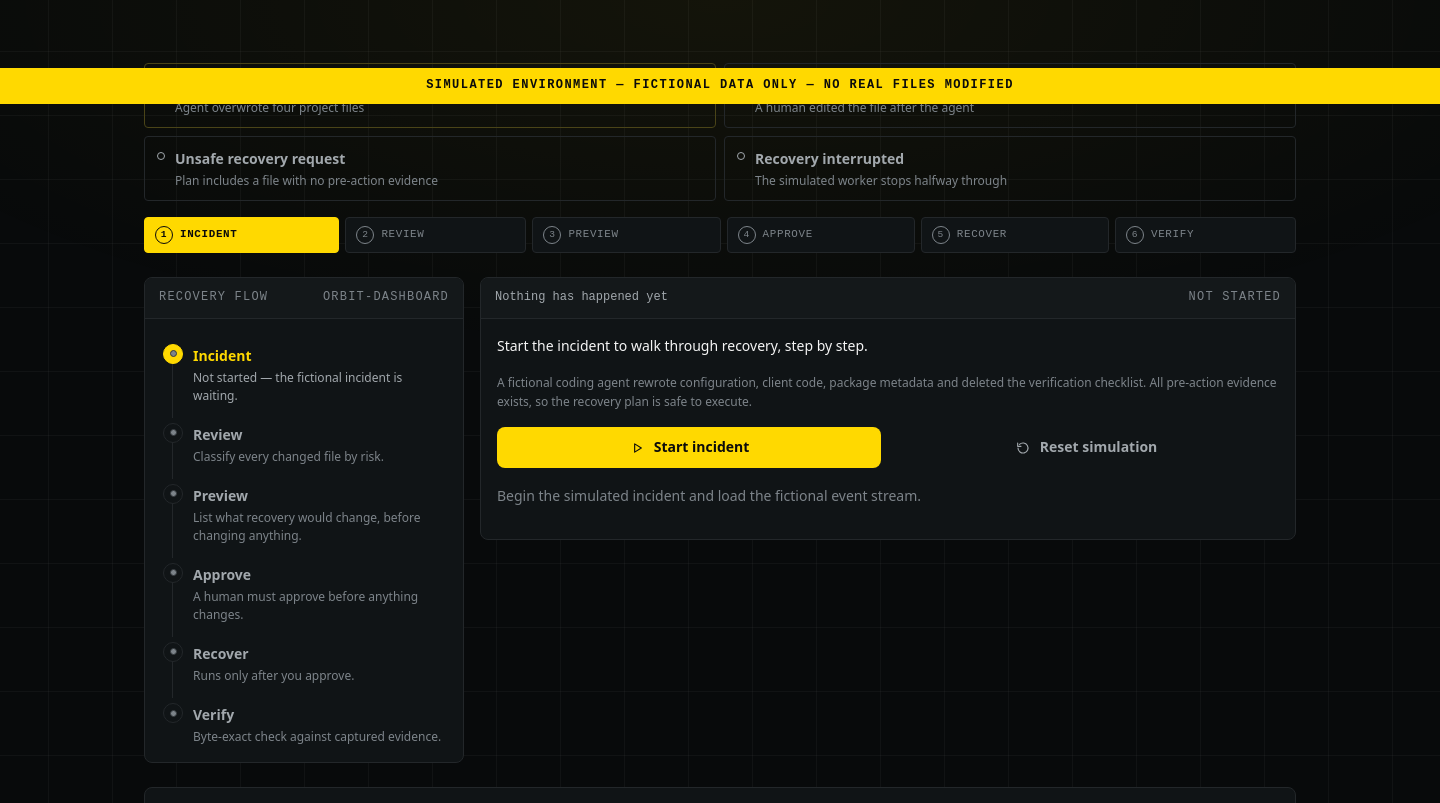
Demo page — state transitions through the UI › resets to an idle walkthrough with no stale results
The image size is (1440, 803).
(page scrolled)
Click the button "Start incident".
click(689, 448)  # box left=497, top=427, right=881, bottom=468
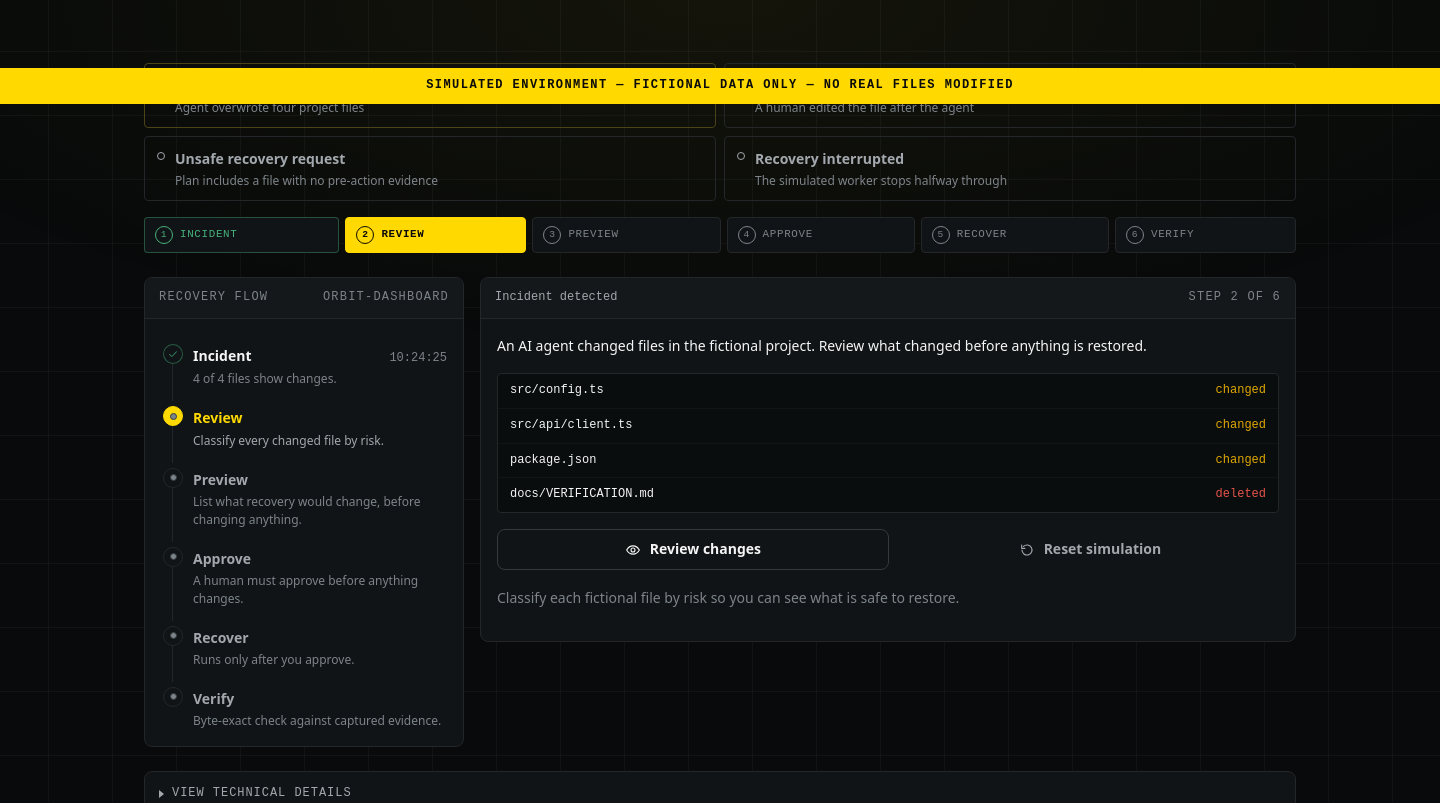
Click the button "Reset simulation".
click(1090, 550)  # box left=901, top=529, right=1279, bottom=570
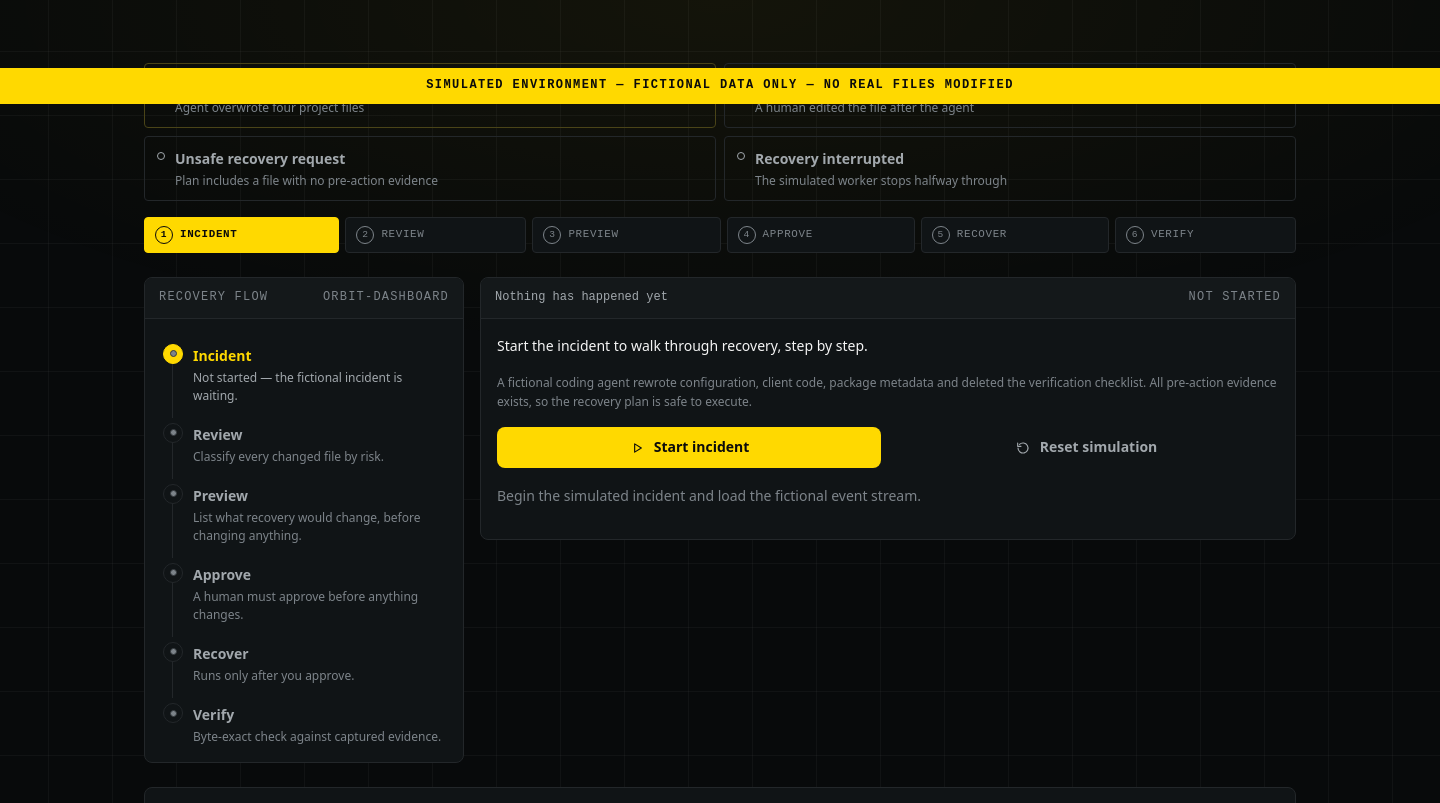
Result: the heading "Nothing has happened yet" is shown at left=495, top=288, right=668, bottom=308
